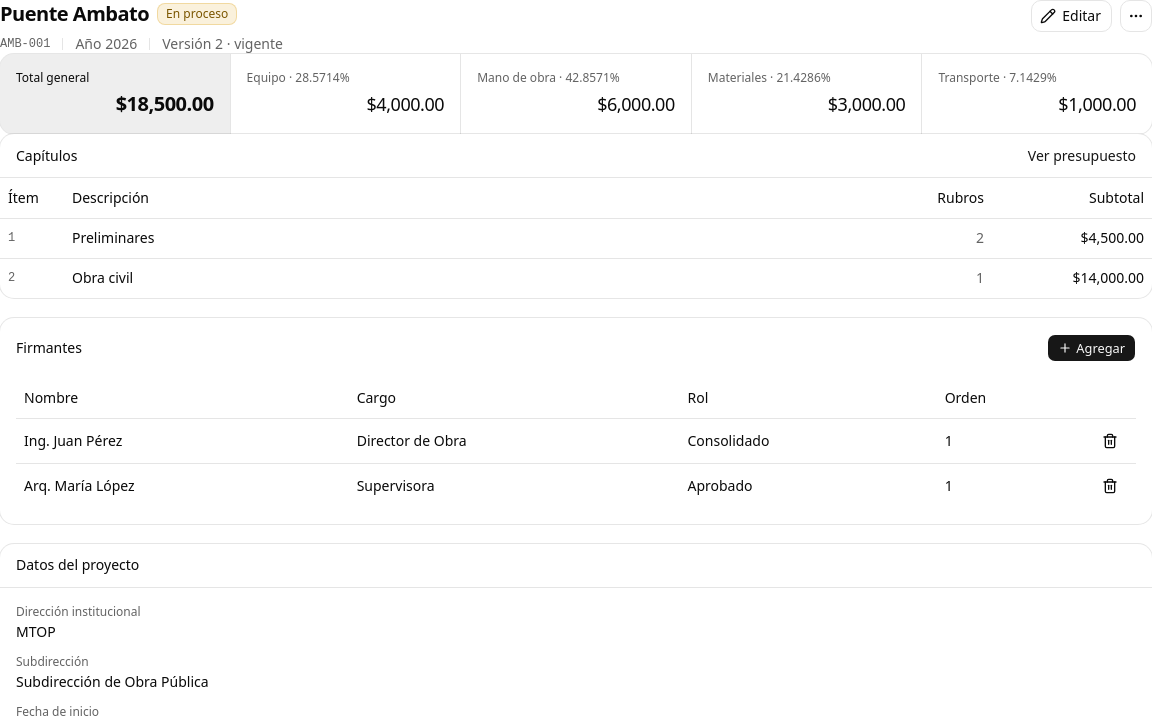
ResumenProyectoPage › abre el diálogo de guardar como plantilla desde el menú de más acciones
The image size is (1152, 720).
Expected: the heading "Puente Ambato" is shown, [0, 0, 149, 28]
Step 1. Click the button named "Más acciones" → (1136, 16), box [1120, 0, 1151, 32]
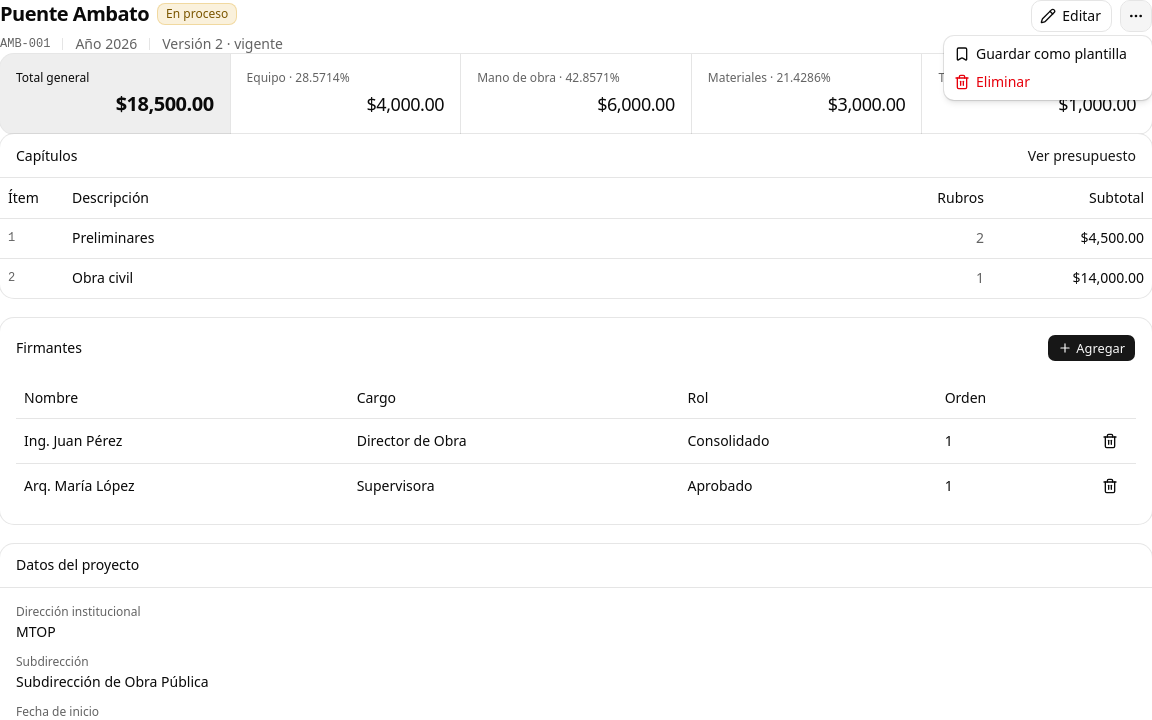
Step 2. Click the menu item "Guardar como plantilla" → (1048, 54), box [948, 40, 1148, 68]
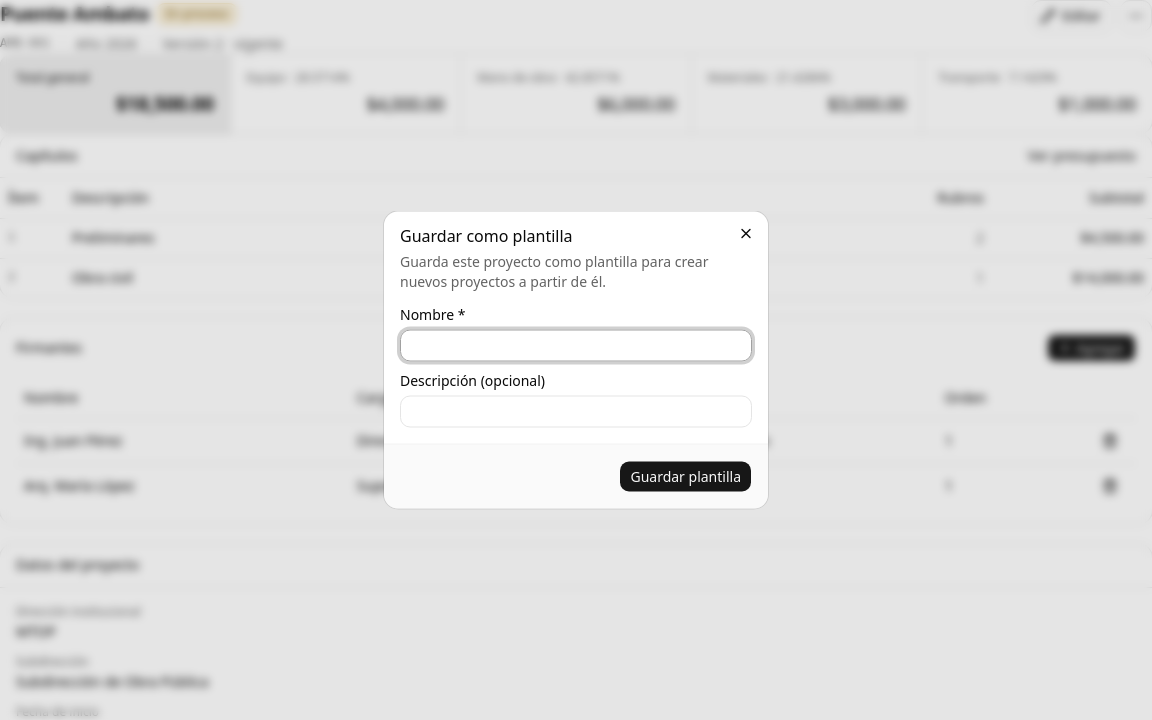
Expected: the text "Guarda este proyecto como plantilla para crear nuevos proyectos a partir de él." is shown, [400, 252, 752, 292]
